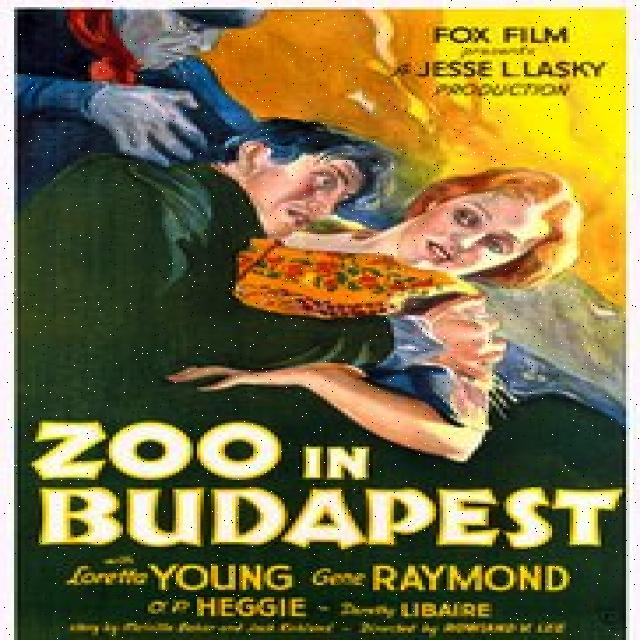movie-judul: (15, 416, 628, 556)
picture: (18, 8, 626, 411)
